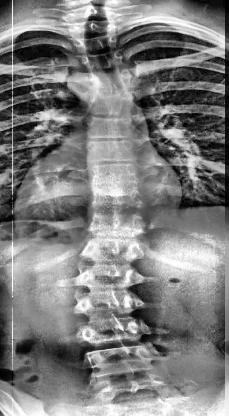Vertebrae: (92, 374, 172, 404), (82, 346, 156, 378), (77, 260, 145, 294), (75, 315, 149, 345), (82, 234, 146, 266), (75, 292, 143, 321), (85, 206, 145, 238), (85, 184, 147, 212), (83, 140, 139, 166), (83, 115, 137, 141), (86, 90, 136, 116), (82, 66, 136, 90), (86, 164, 142, 186), (77, 50, 131, 70), (64, 6, 119, 22), (68, 20, 120, 36), (72, 36, 120, 52)
